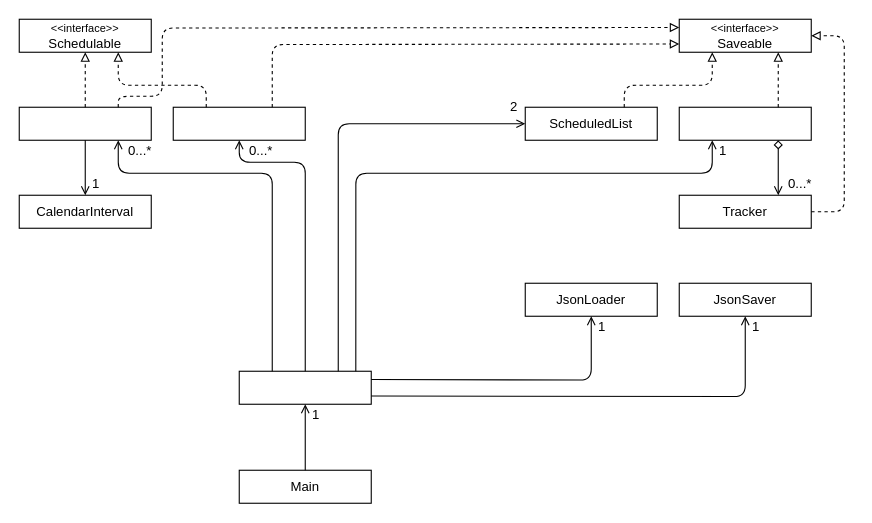
This 872x523 diagram has some shape labels left out. Each missing label, with the centre of its shape:
Appointment: the point at 84,123
HabitTrackers: the point at 744,123
LifePlannerApp: the point at 304,387
Task: the point at 238,123
